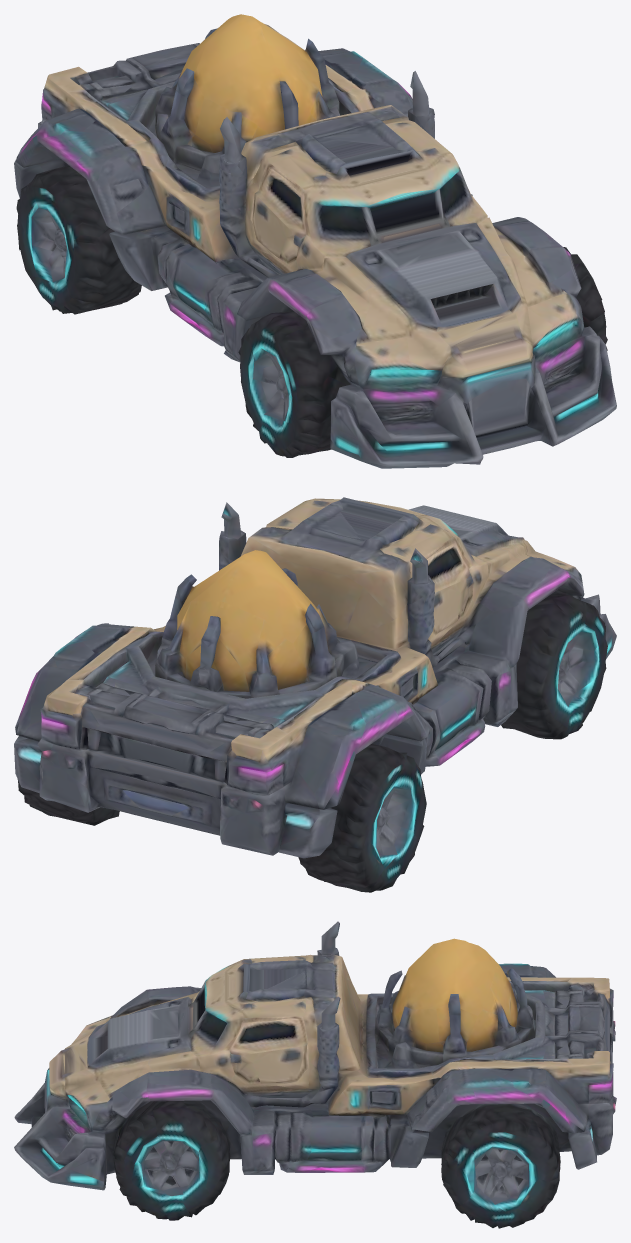
The model's file is rival-rig.glb.
3 views of the same model, one above another, from view 1: azimuth 30°, elevation 25°; view 2: azimuth 150°, elevation 25°; view 3: azimuth 270°, elevation 25° (orthographic). The views are drawn at different scales.
Visible parts, largest first — view 1: body; view 2: body; view 3: body.
Part boxes in pixels (x1,y1,x2,y2): body: (14, 14, 616, 468); body: (14, 497, 616, 892); body: (14, 921, 616, 1228).
Size of the model in its own units: 0.5467 by 0.409 by 0.9984.
1 material, 1 textured.
